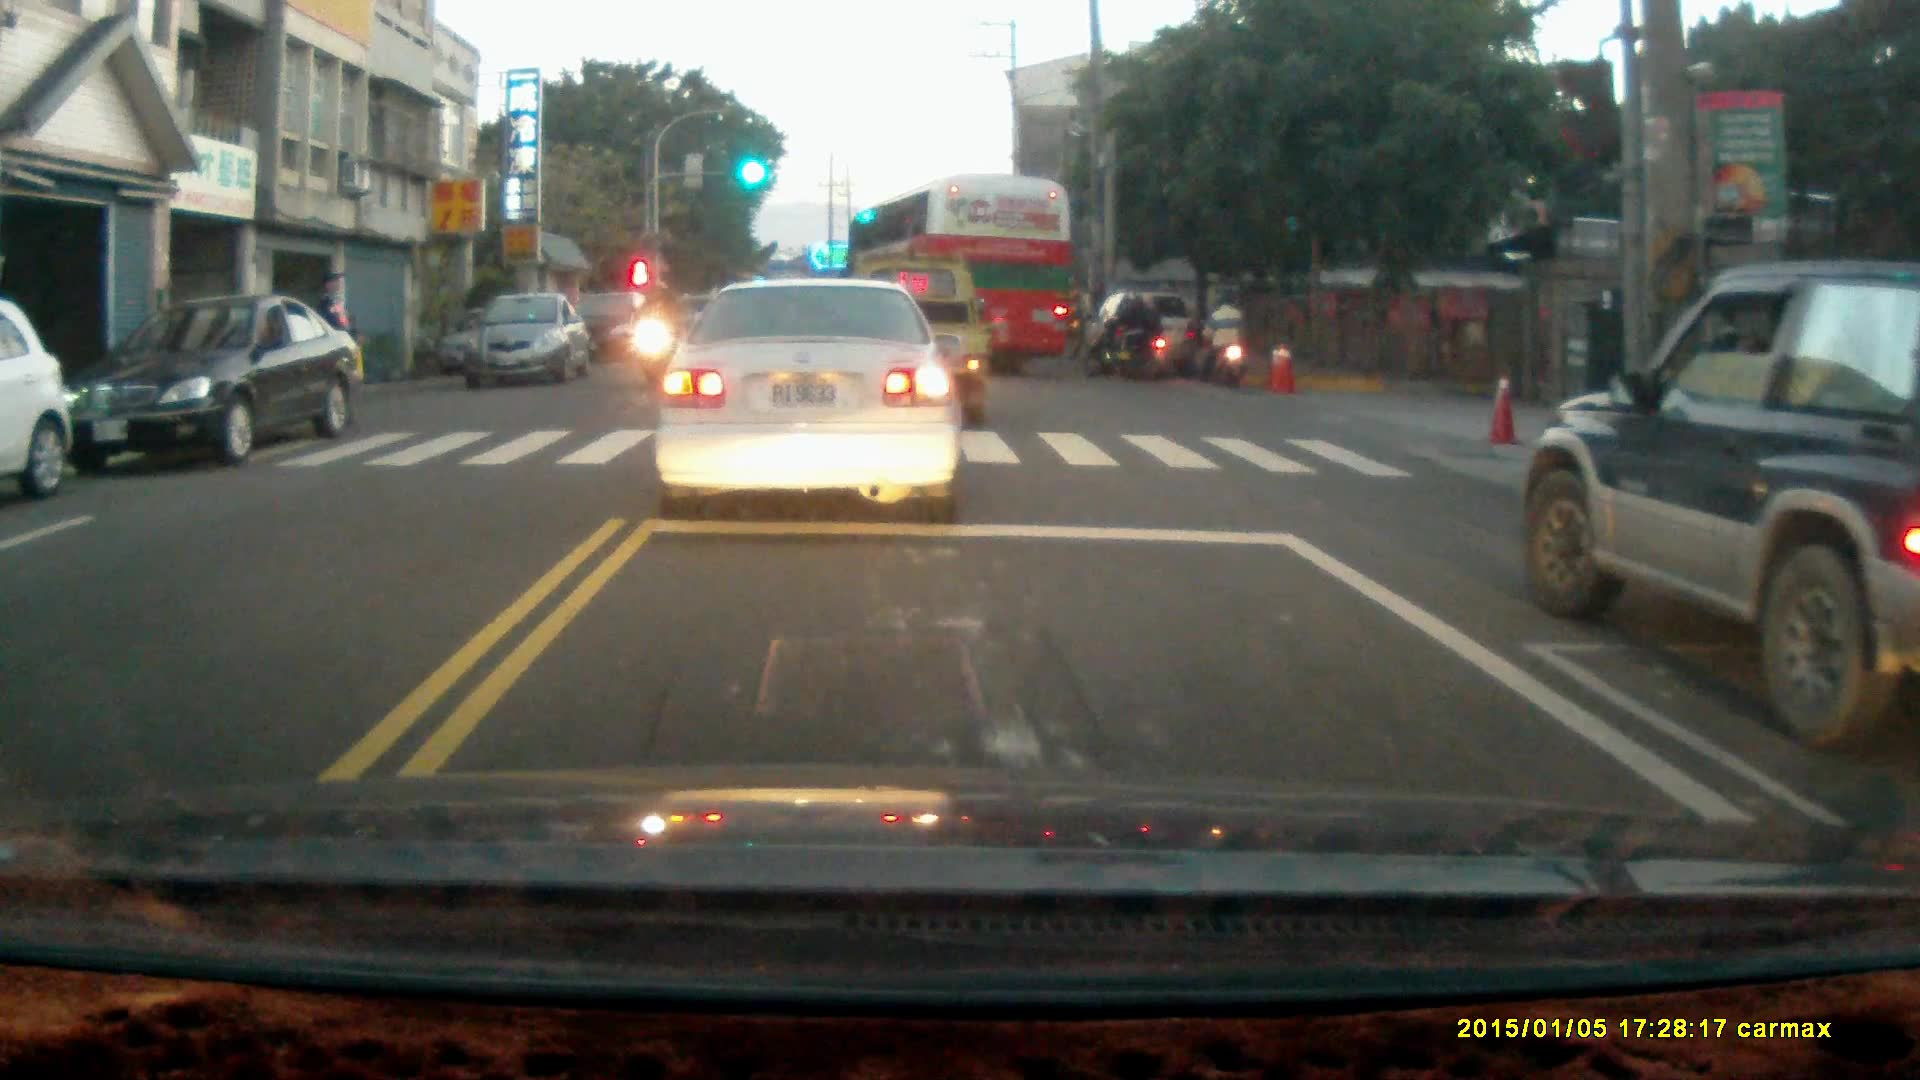pedestrian: (311, 269, 357, 424)
rider: (1086, 290, 1164, 381), (633, 278, 686, 392), (1193, 289, 1247, 389)
vehicle: (1525, 260, 1920, 749), (657, 277, 962, 528), (61, 297, 362, 474), (845, 171, 1077, 380), (1, 305, 80, 500), (452, 293, 595, 390), (1093, 290, 1211, 380), (568, 297, 661, 370)
